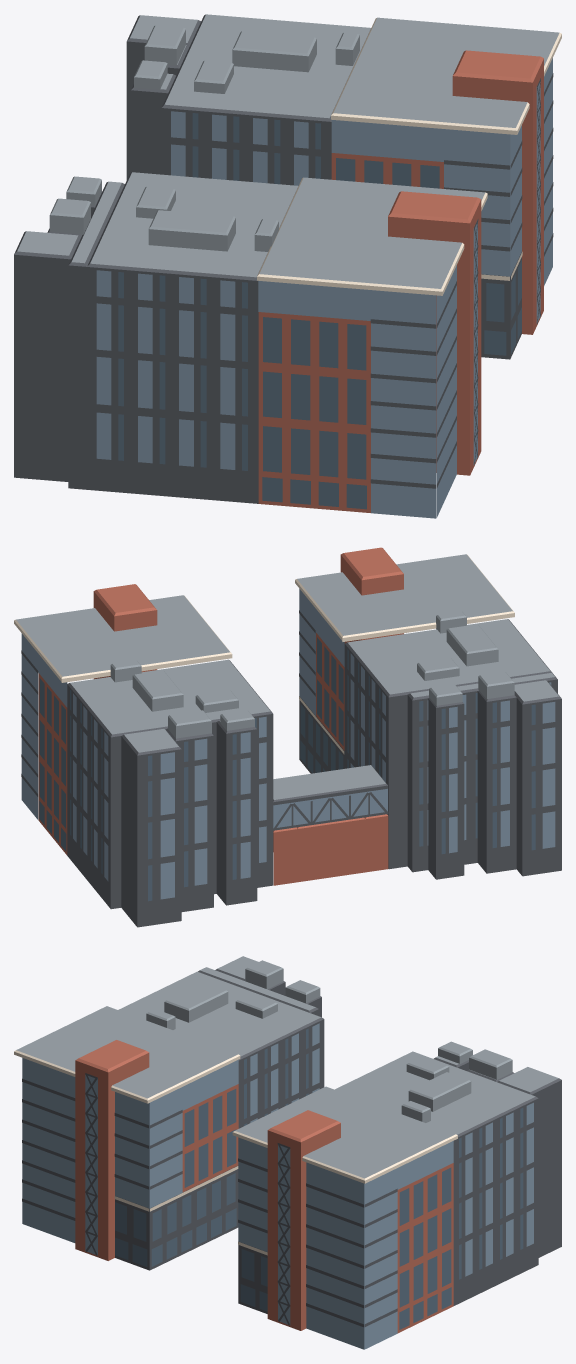
3 renders of one model, top to bottom at view 1: azimuth 30°, elevation 25°; view 2: azimuth 150°, elevation 25°; view 3: azimuth 270°, elevation 25°, orthographic. The views are drawn at different scales.
Visible parts, largest first — view 1: the-railyard; view 2: the-railyard; view 3: the-railyard.
Part boxes in pixels (x1,y1,x2,y2): the-railyard: (14, 14, 561, 518); the-railyard: (14, 547, 561, 927); the-railyard: (14, 956, 561, 1349).
Bounding box in the file's own units: 111 × 43 × 112.
